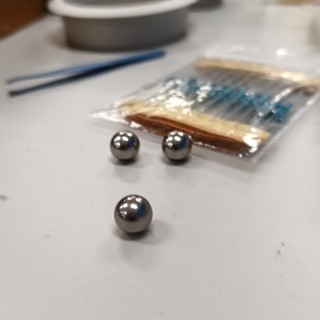ironball: (104, 187, 169, 246), (94, 123, 142, 172), (153, 118, 196, 167)
